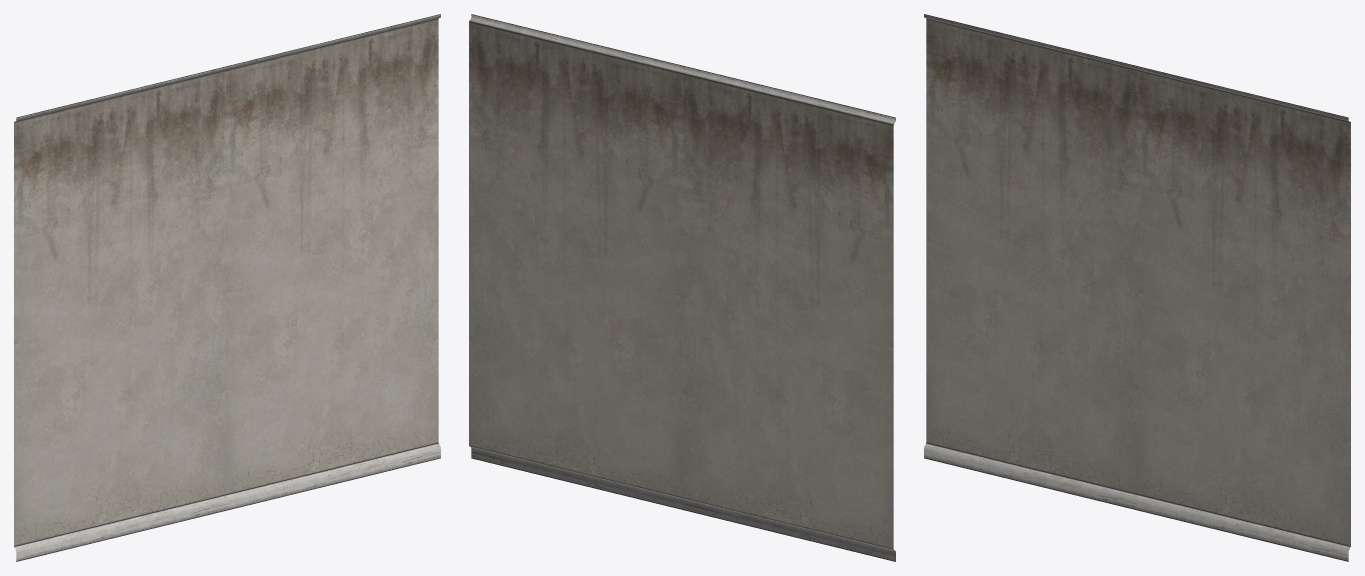
Rendered from livingroom_damaged_flat.dae.
The picture shows the model from 3 angles, left to right: view 1: azimuth 30°, elevation 25°; view 2: azimuth 150°, elevation 25°; view 3: azimuth 330°, elevation 25°; orthographic projection.
Visible parts, largest first — view 1: polySurface7; view 2: polySurface7; view 3: polySurface7.
Part boxes in pixels (box(x1,y1,x2,y2)): polySurface7: box(14, 14, 440, 561); polySurface7: box(469, 14, 895, 561); polySurface7: box(924, 14, 1350, 561).
Bounding box in the file's own units: 4 × 4 × 0.0341.
